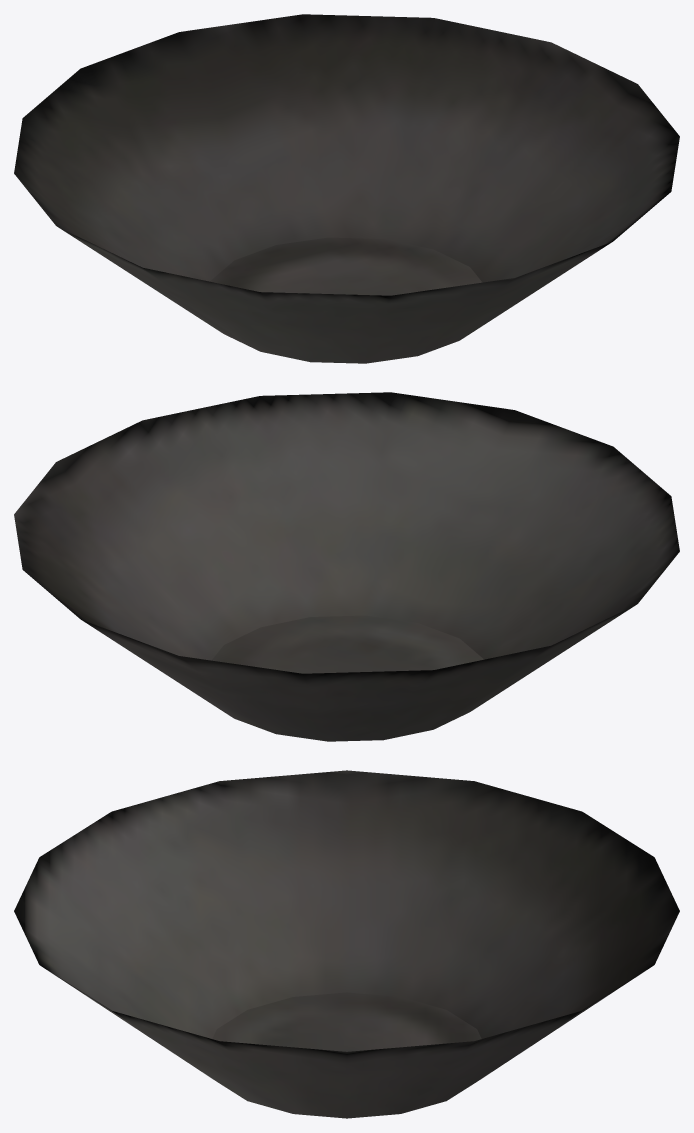
Rendered from p_jun_bowl_dine_lod0.glb.
The picture shows the model from 3 angles, top to bottom: view 1: azimuth 30°, elevation 25°; view 2: azimuth 150°, elevation 25°; view 3: azimuth 270°, elevation 25°; orthographic projection.
Visible parts, largest first — view 1: surf0; view 2: surf0; view 3: surf0.
Part boxes in pixels (x1,y1,x2,y2): surf0: (14,14,679,363); surf0: (14,392,679,741); surf0: (14,770,679,1118).
Size of the model in its own units: 11 by 2.7 by 11.
